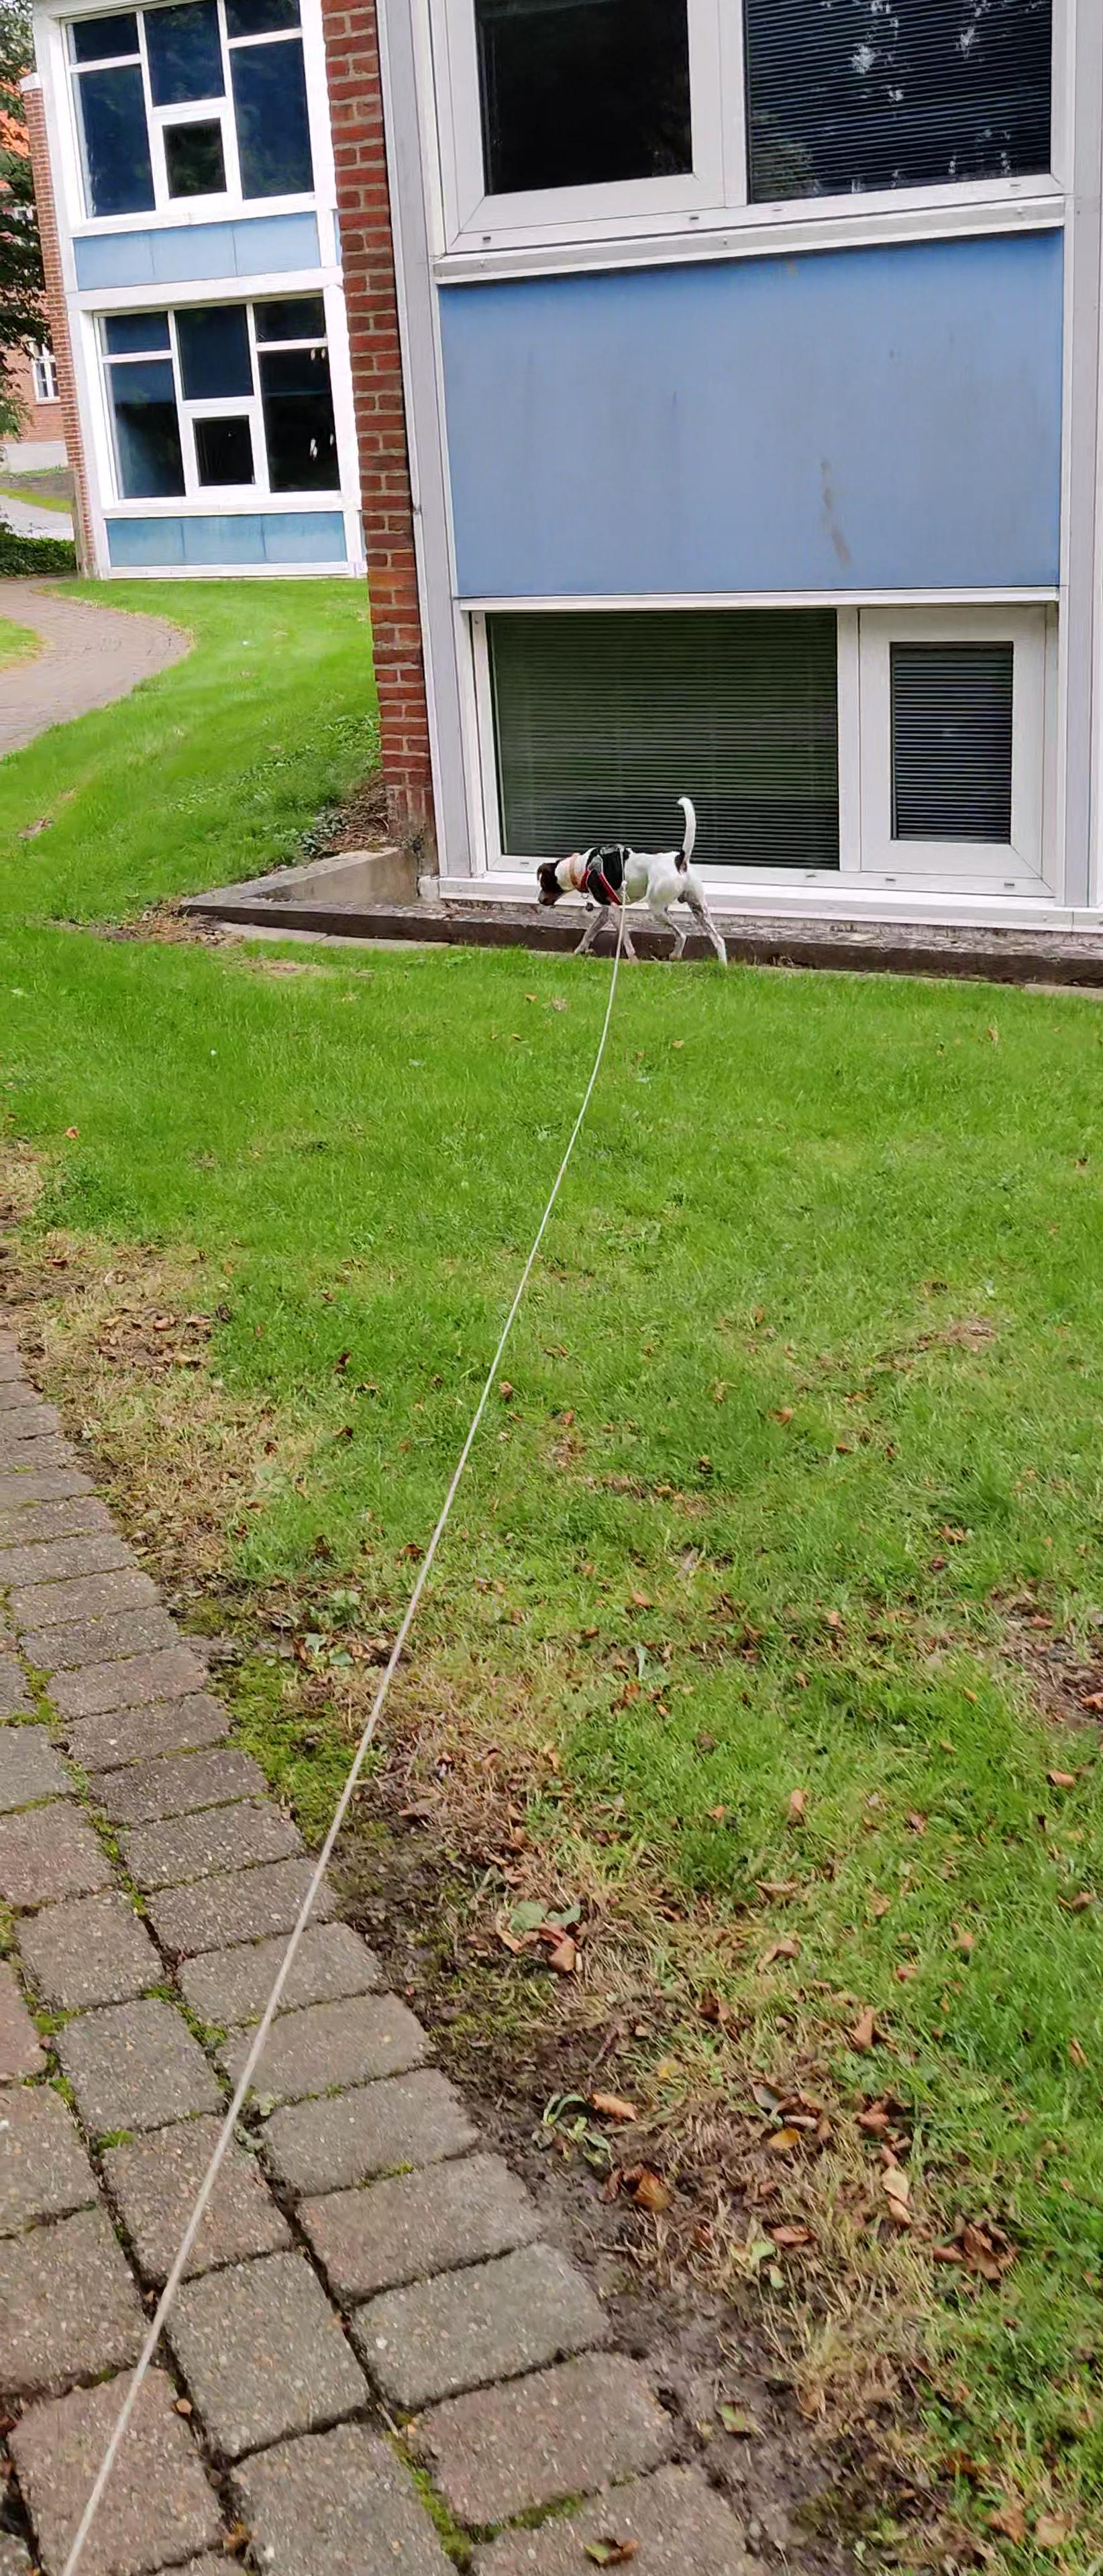Dog: (526, 785, 743, 981)
